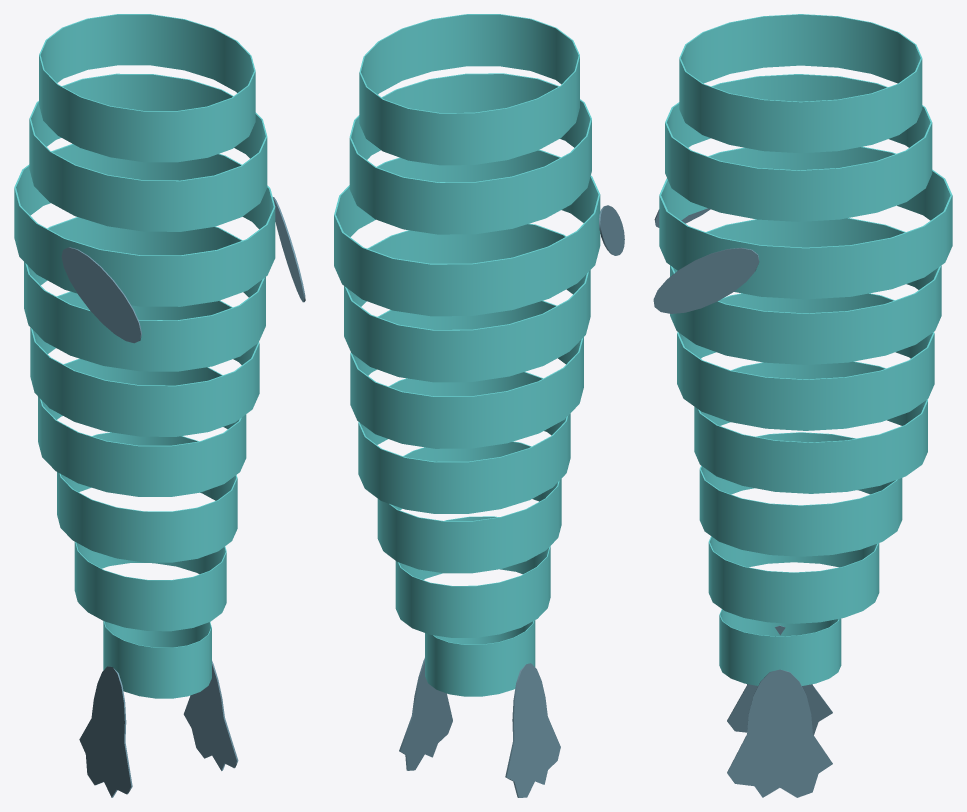
Rendered from blue_fish_export.fbx.
The picture shows the model from 3 angles, left to right: view 1: azimuth 30°, elevation 25°; view 2: azimuth 150°, elevation 25°; view 3: azimuth 270°, elevation 25°; orthographic projection.
Visible parts, largest first — view 1: polySurface1, polySurface2, polySurface3, polySurface4, polySurface5, polySurface6, polySurface7, polySurface8, polySurface9, polySurface18, polySurface16, polySurface17 (+1 smaller); view 2: polySurface1, polySurface2, polySurface3, polySurface4, polySurface5, polySurface6, polySurface7, polySurface8, polySurface9, polySurface18, polySurface17, polySurface16; view 3: polySurface1, polySurface2, polySurface3, polySurface4, polySurface5, polySurface6, polySurface7, polySurface8, polySurface17, polySurface9, polySurface10, polySurface18.
Part boxes in pixels (<box>): polySurface1: <box>39,14,255,162</box>; polySurface2: <box>29,73,267,231</box>; polySurface3: <box>14,144,275,306</box>; polySurface4: <box>24,217,265,371</box>; polySurface5: <box>30,291,259,436</box>; polySurface6: <box>38,358,246,496</box>; polySurface7: <box>57,432,237,562</box>; polySurface8: <box>74,542,226,631</box>; polySurface9: <box>103,621,211,698</box>; polySurface18: <box>79,666,132,797</box>; polySurface16: <box>61,247,141,343</box>; polySurface17: <box>183,661,238,770</box>; polySurface1: <box>359,14,579,165</box>; polySurface2: <box>349,73,591,234</box>; polySurface3: <box>334,150,600,316</box>; polySurface4: <box>344,223,590,382</box>; polySurface5: <box>350,300,583,448</box>; polySurface6: <box>358,371,570,513</box>; polySurface7: <box>377,441,561,573</box>; polySurface8: <box>395,516,550,637</box>; polySurface9: <box>425,620,535,696</box>; polySurface18: <box>505,663,560,797</box>; polySurface17: <box>399,658,452,770</box>; polySurface16: <box>599,205,624,255</box>; polySurface1: <box>679,14,922,153</box>; polySurface2: <box>665,74,932,221</box>; polySurface3: <box>659,146,952,299</box>; polySurface4: <box>670,218,941,364</box>; polySurface5: <box>677,293,934,430</box>; polySurface6: <box>694,361,927,493</box>; polySurface7: <box>699,432,902,556</box>; polySurface8: <box>708,536,879,623</box>; polySurface17: <box>727,669,832,797</box>; polySurface9: <box>719,609,841,685</box>; polySurface10: <box>653,247,759,313</box>; polySurface18: <box>727,625,832,735</box>.
Bounding box in the file's own units: 2.49 × 7.76 × 2.95.
